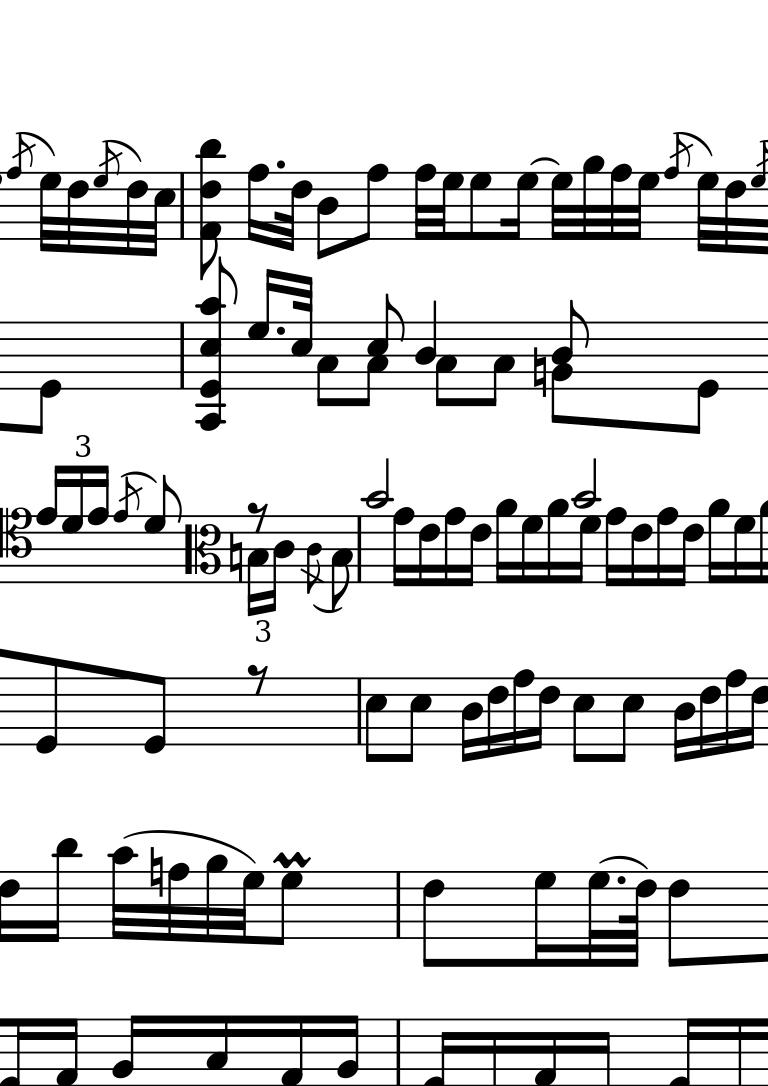16_1: (54, 1016, 80, 1086), (533, 1018, 559, 1086), (279, 1014, 303, 1086)
16_11: (46, 838, 83, 943)
16_2: (112, 1013, 143, 1086), (334, 1014, 359, 1086)
16_3: (247, 514, 268, 618)
16_4: (268, 513, 294, 614), (460, 676, 484, 762), (672, 676, 695, 764)
16_5: (205, 1014, 229, 1085)
16_6: (532, 675, 560, 752), (697, 676, 721, 760), (486, 676, 510, 757), (679, 514, 704, 589), (416, 514, 440, 588), (629, 514, 653, 587), (467, 515, 491, 586)
16_7: (246, 267, 278, 389), (62, 464, 85, 585), (533, 869, 558, 968), (503, 171, 538, 241), (572, 514, 602, 585), (520, 514, 544, 586), (746, 678, 768, 752)
16_8: (36, 464, 63, 584), (87, 463, 110, 585), (512, 669, 535, 756), (603, 506, 627, 588), (655, 506, 679, 588), (724, 669, 747, 754), (246, 163, 269, 244), (391, 507, 414, 588), (443, 508, 466, 587), (731, 514, 755, 586)
16_9: (545, 498, 570, 584), (708, 499, 731, 586), (495, 498, 518, 584)
2_10: (363, 459, 390, 585)
3: (253, 619, 272, 644), (74, 433, 91, 458)
32_10: (108, 845, 138, 941)
32_7: (587, 869, 612, 970), (238, 869, 266, 944), (633, 171, 661, 241), (437, 171, 464, 241)
32_8: (167, 862, 191, 944)
32_9: (205, 854, 229, 944)
4_4: (415, 298, 436, 391)
64_6: (619, 870, 657, 969)
8_0: (29, 319, 62, 438), (690, 320, 720, 436), (33, 655, 59, 756), (141, 673, 167, 756)
8_2_4: (549, 299, 592, 425)
8_3: (330, 515, 355, 615), (487, 321, 514, 408), (316, 320, 338, 408), (435, 321, 457, 409)
8_3_5: (358, 292, 406, 408)
8_4: (315, 170, 337, 259)
8_5: (290, 274, 313, 393), (613, 676, 644, 763), (403, 675, 432, 765), (148, 171, 177, 259), (363, 677, 388, 762), (572, 676, 596, 764)
8_6: (278, 171, 311, 252), (666, 870, 691, 971), (421, 870, 444, 969), (124, 171, 148, 257), (66, 171, 90, 255), (722, 171, 746, 255)
8_7: (142, 475, 183, 585), (275, 870, 304, 947), (695, 172, 719, 253), (38, 171, 61, 254), (468, 170, 493, 242), (549, 171, 573, 241)
8_8: (359, 163, 389, 244), (413, 163, 437, 242), (609, 162, 631, 243)
8_9: (582, 155, 606, 243)
Acciaccature: (2, 136, 37, 242), (111, 477, 142, 584), (663, 134, 693, 240), (93, 143, 124, 244), (303, 513, 326, 591)
Cclef: (182, 514, 222, 583)
Natural: (147, 845, 164, 898), (228, 532, 243, 585), (533, 346, 547, 400)
Rests8: (243, 659, 271, 697), (246, 501, 268, 532)
ShortTrill: (270, 849, 314, 868)
Single_barline: (389, 873, 408, 939), (389, 1019, 408, 1084), (174, 323, 191, 389), (351, 679, 368, 741), (175, 173, 190, 239), (351, 516, 366, 582)
Slur: (671, 130, 715, 155), (99, 138, 144, 162), (15, 131, 57, 156), (601, 850, 649, 867), (118, 471, 159, 486), (530, 157, 559, 168), (313, 603, 342, 613)
Tensor_Cclef: (1, 505, 32, 584)
dot: (272, 157, 288, 171), (273, 323, 288, 337), (615, 873, 627, 886)
